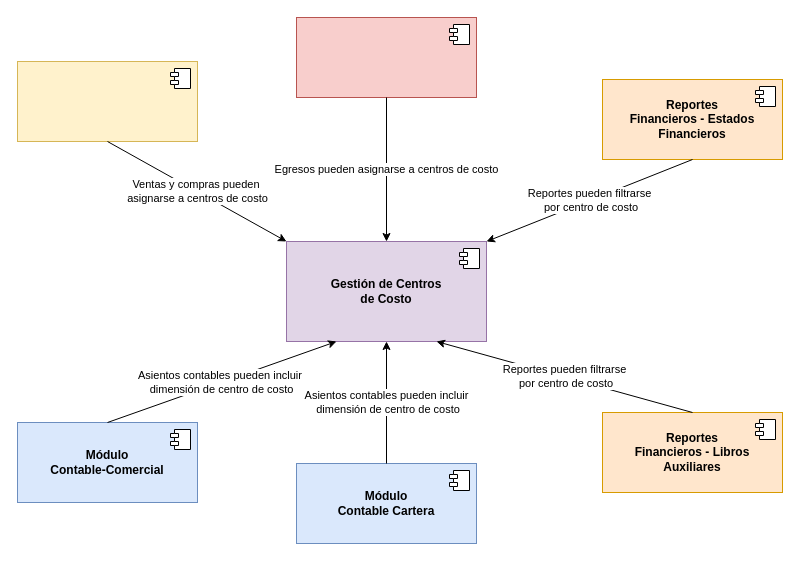
This 800x561 diagram has some shape labels left out. The centre of each missing label's shape, as x and y in pixels:
Módulo Comercial: (x=107, y=101)
Módulo de Tesorería: (x=386, y=57)
